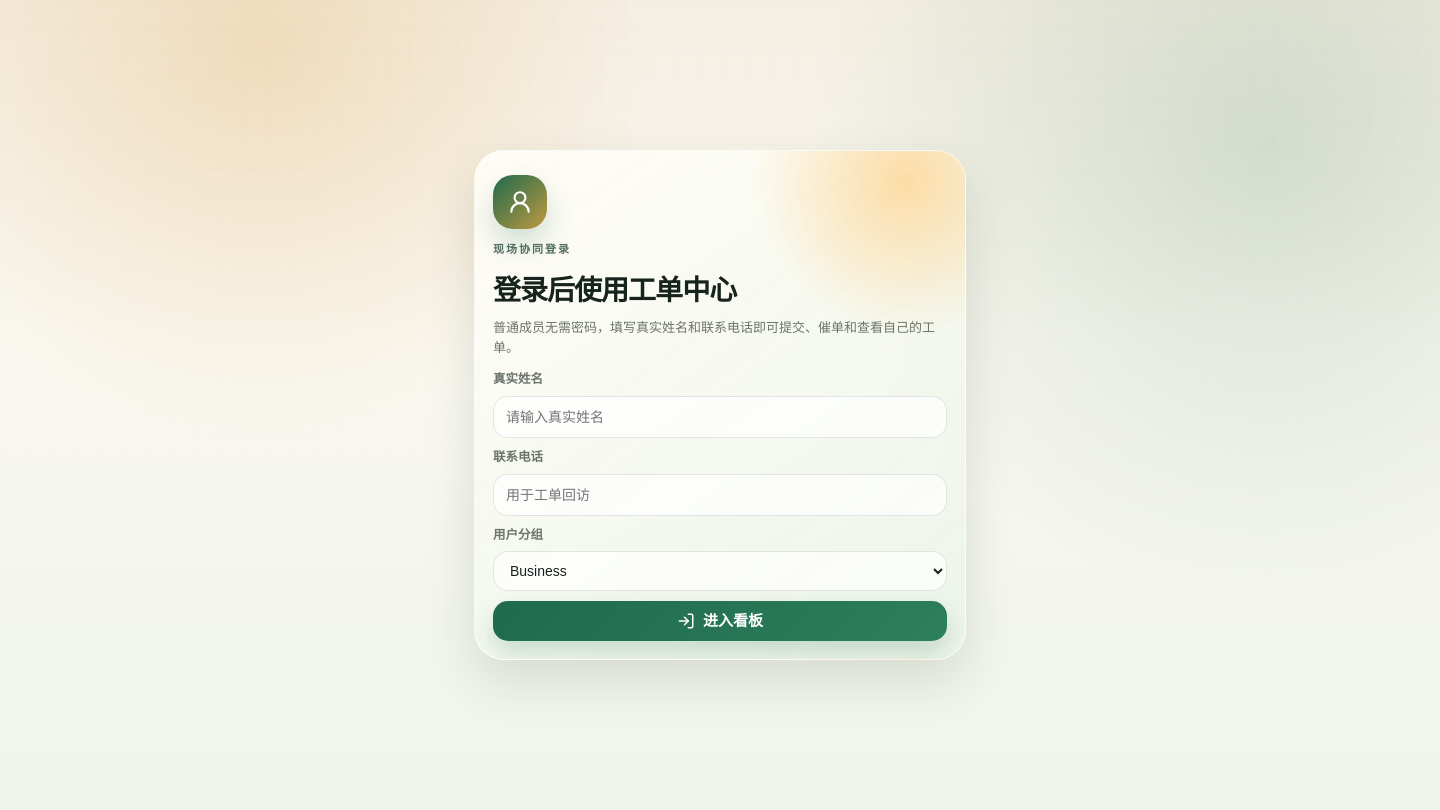
Test: login and role access › shows an error when member login cannot reach the auth route
Type "Alice" into the field named "name" at (720, 417), box 493,396 -> 947,438
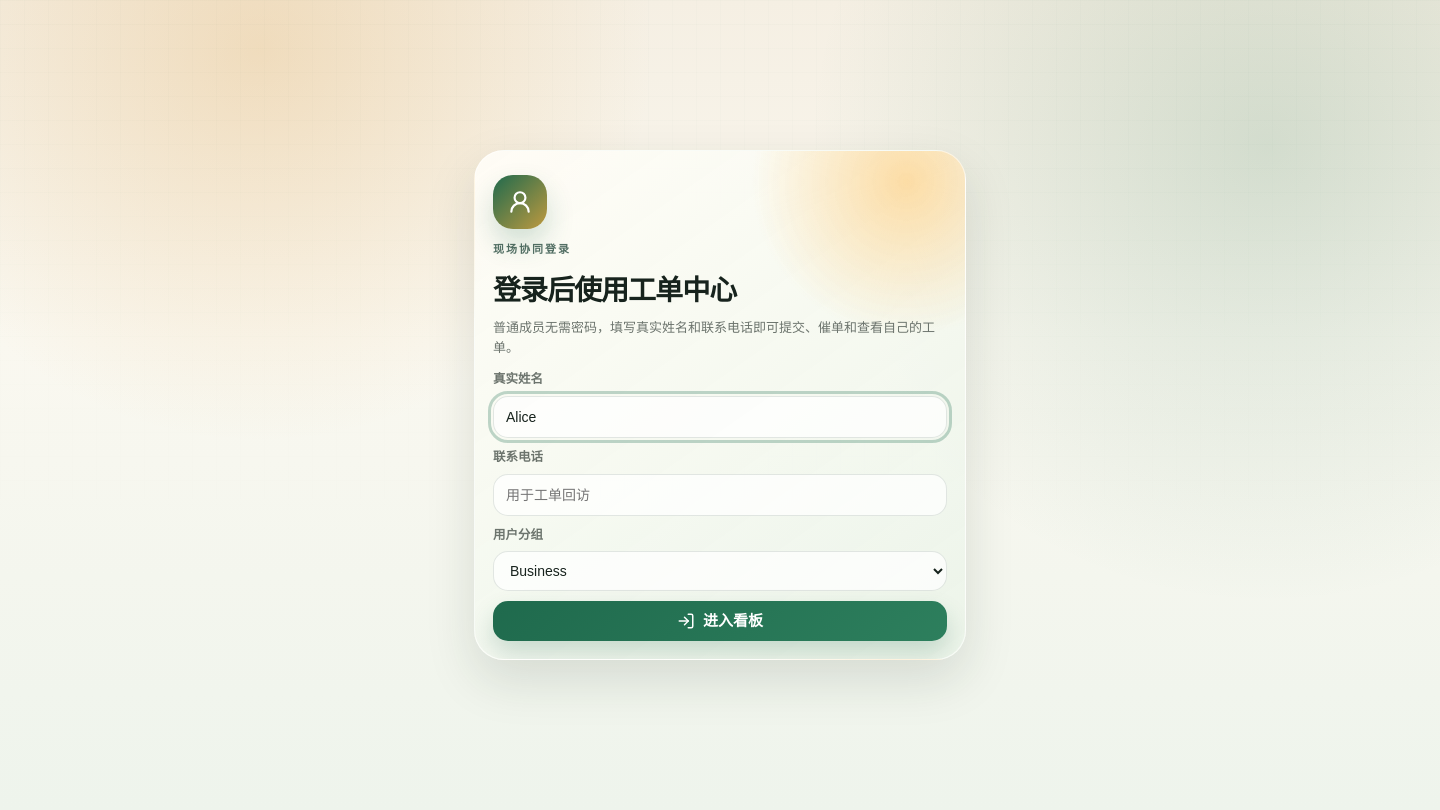
Type "13800138000" into the field named "phone" at (720, 495), box 493,474 -> 947,516
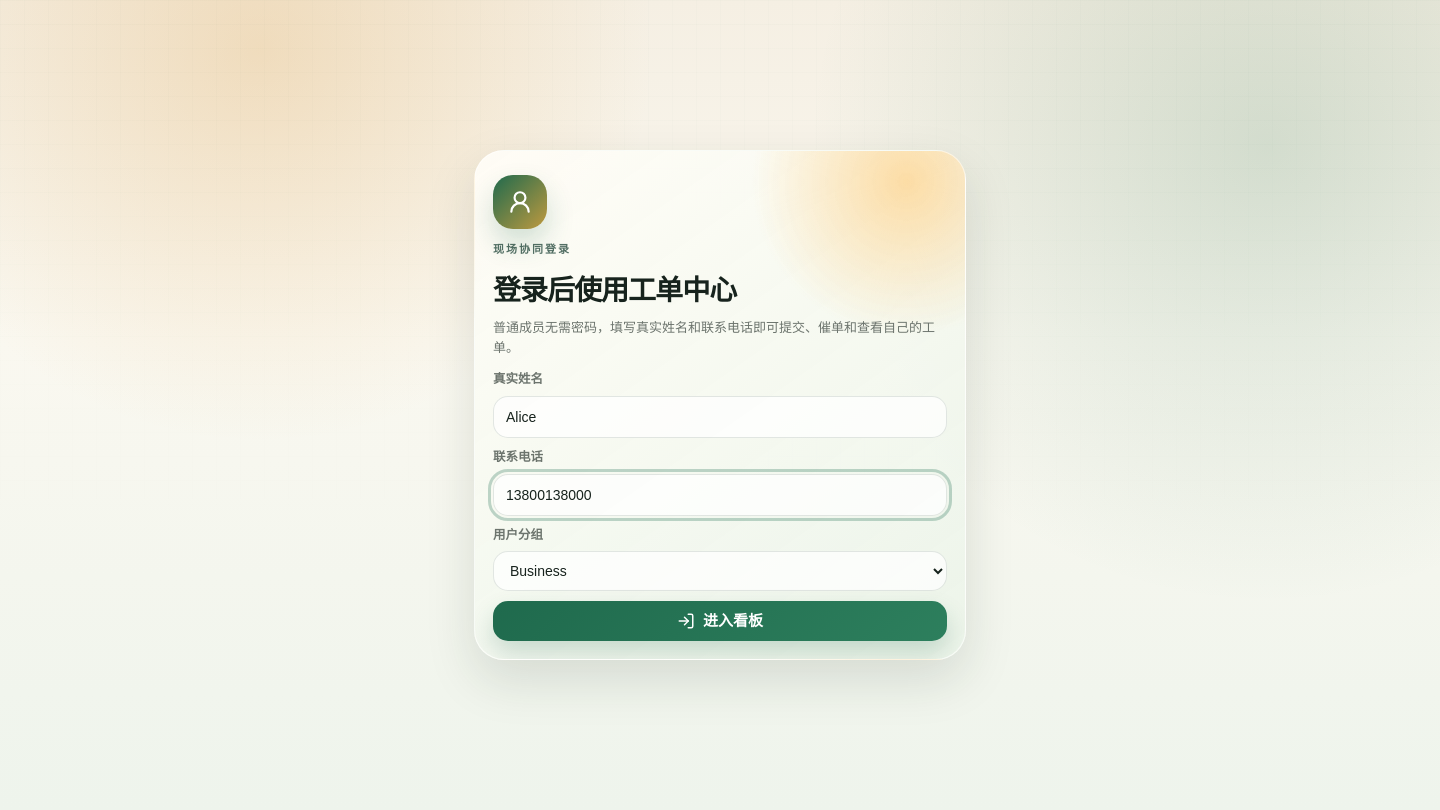
Click the submit button at (720, 621), box 493,601 -> 947,641
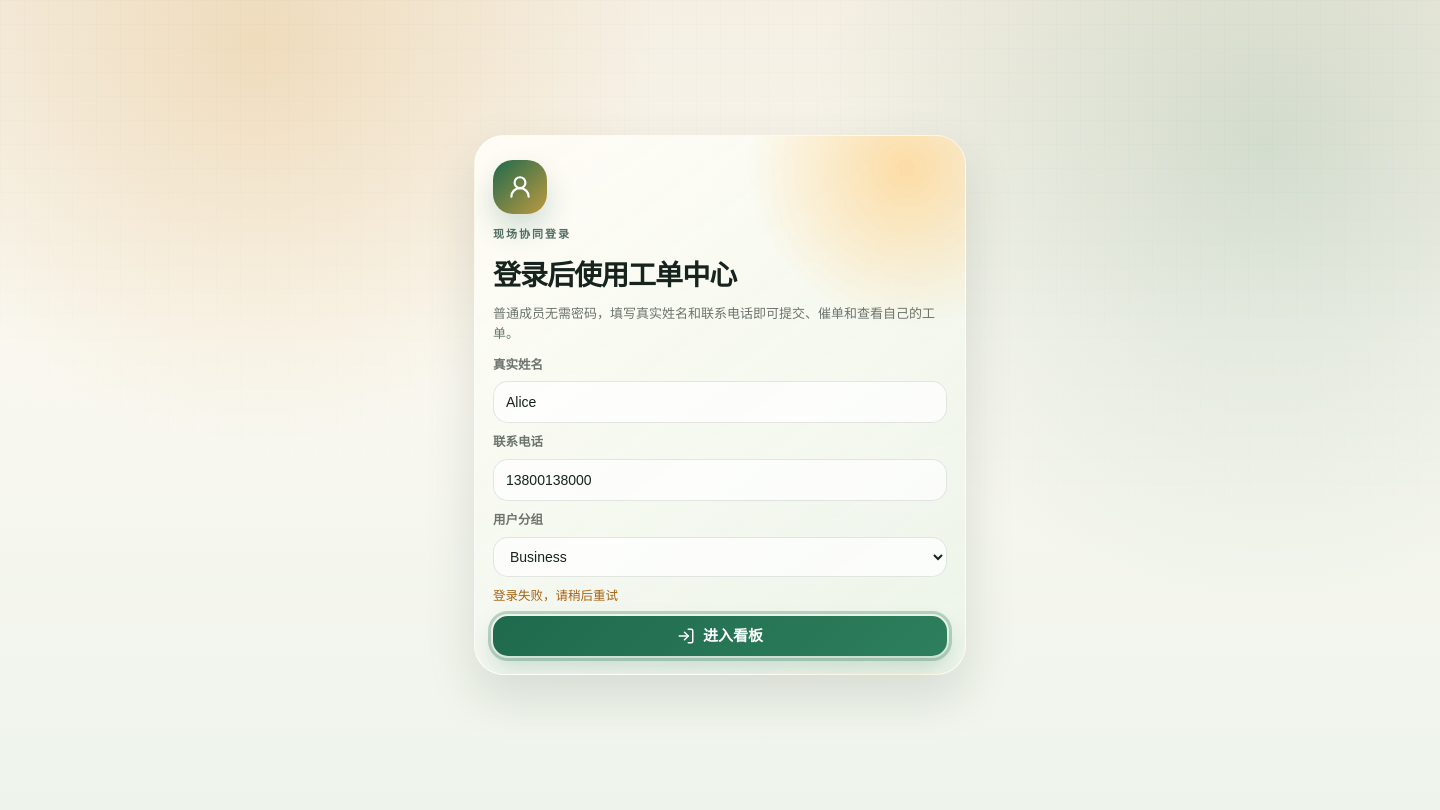
Result: the text "登录失败，请稍后重试" is shown at 493,588 -> 618,602
